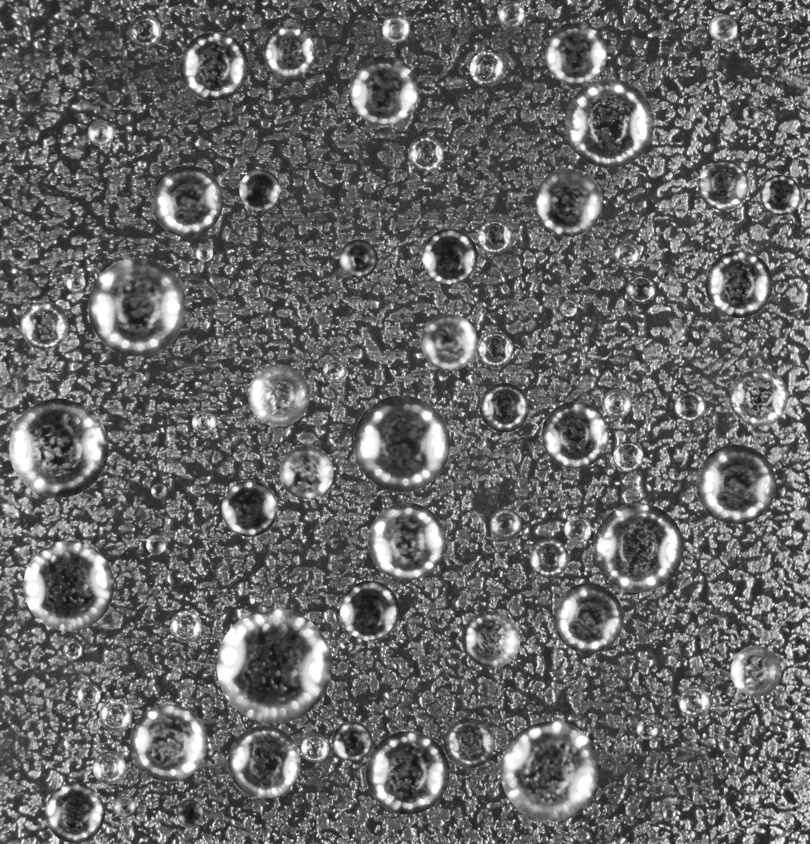Bubble: (216, 608, 331, 723), (500, 721, 601, 821), (9, 398, 108, 497), (88, 257, 186, 356), (353, 395, 450, 492), (23, 540, 114, 631), (593, 503, 683, 592), (565, 78, 654, 167), (366, 731, 449, 814), (696, 444, 776, 524), (368, 502, 445, 580), (130, 704, 207, 781), (228, 725, 300, 798), (151, 165, 223, 236), (553, 583, 623, 653), (179, 31, 248, 100), (349, 56, 418, 125), (705, 250, 772, 318), (535, 168, 602, 236), (541, 401, 609, 468), (247, 364, 309, 426), (545, 22, 607, 84), (339, 580, 399, 640), (45, 783, 104, 843), (729, 367, 788, 426), (463, 610, 520, 667), (421, 314, 477, 370), (221, 480, 277, 536), (422, 228, 477, 284), (279, 445, 333, 499), (263, 25, 316, 78), (730, 645, 781, 696), (698, 160, 748, 210), (444, 718, 494, 768), (479, 382, 529, 432), (20, 301, 68, 349), (760, 174, 801, 215), (239, 169, 280, 210), (332, 721, 372, 761), (529, 539, 568, 578), (339, 239, 377, 278), (408, 135, 443, 171), (477, 332, 513, 367), (469, 51, 504, 86), (477, 220, 511, 254), (128, 14, 161, 47), (92, 751, 125, 784), (99, 699, 132, 732), (170, 610, 202, 642), (490, 508, 521, 540), (678, 686, 709, 717), (674, 390, 705, 421), (613, 441, 643, 471), (602, 389, 631, 418), (626, 275, 655, 303), (709, 14, 737, 42), (301, 734, 329, 762), (382, 15, 409, 43), (564, 516, 591, 543), (176, 799, 203, 826), (498, 1, 525, 27), (87, 120, 113, 146), (614, 241, 640, 266), (191, 410, 216, 434), (77, 684, 100, 706), (323, 359, 345, 381), (113, 795, 135, 817), (636, 718, 658, 739), (65, 272, 85, 292), (146, 534, 165, 554), (62, 640, 82, 659), (657, 265, 674, 283), (195, 244, 213, 261), (560, 300, 577, 316), (743, 105, 759, 122), (151, 483, 167, 499), (718, 738, 732, 752), (662, 807, 675, 820), (65, 17, 77, 29), (713, 695, 722, 704)
